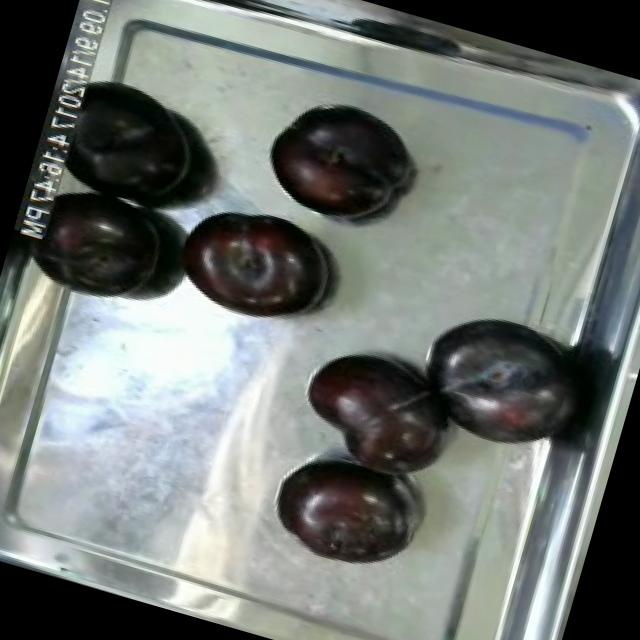Fruit: (399, 285, 600, 470), (280, 327, 470, 494), (157, 182, 344, 338), (47, 62, 220, 224), (252, 81, 418, 237), (258, 436, 422, 582), (22, 172, 186, 318)
